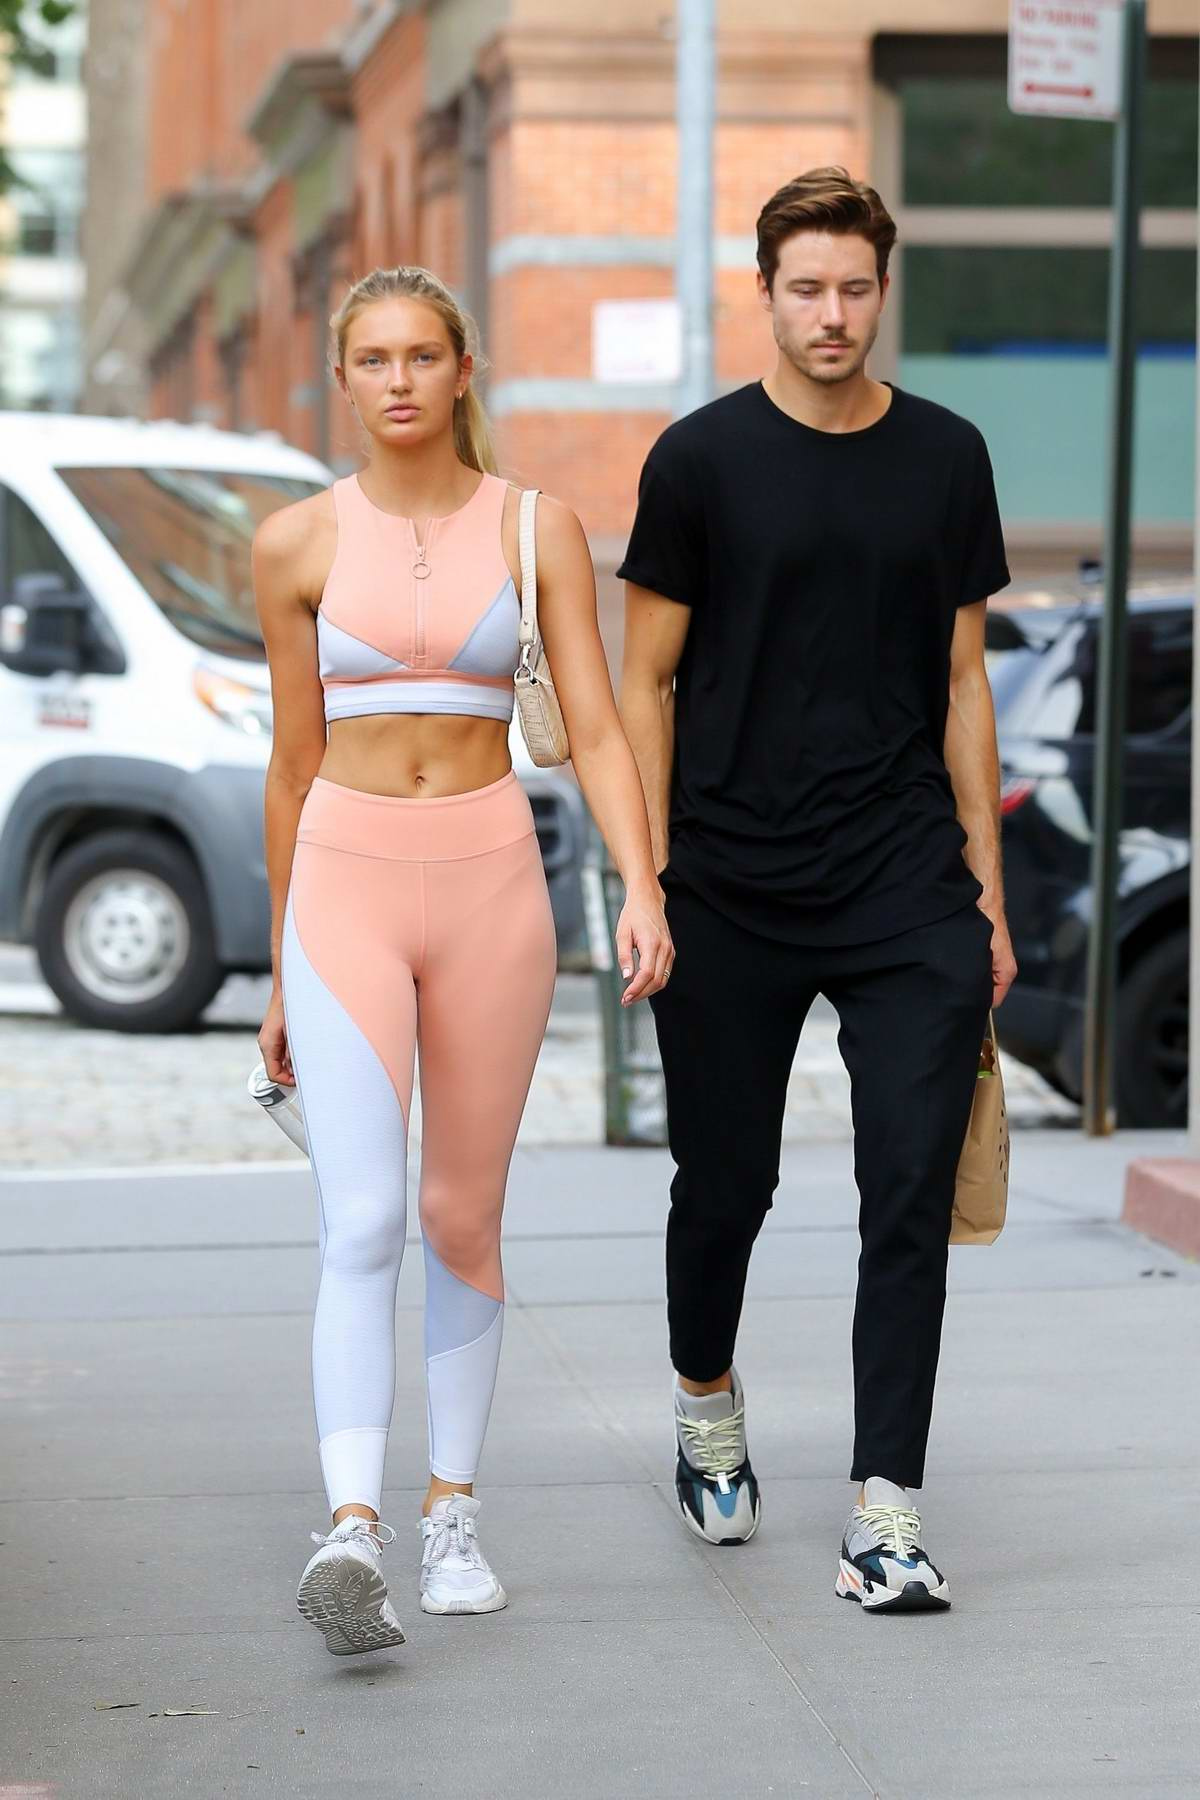Person: (247, 265, 678, 1661), (616, 165, 1020, 1619)
